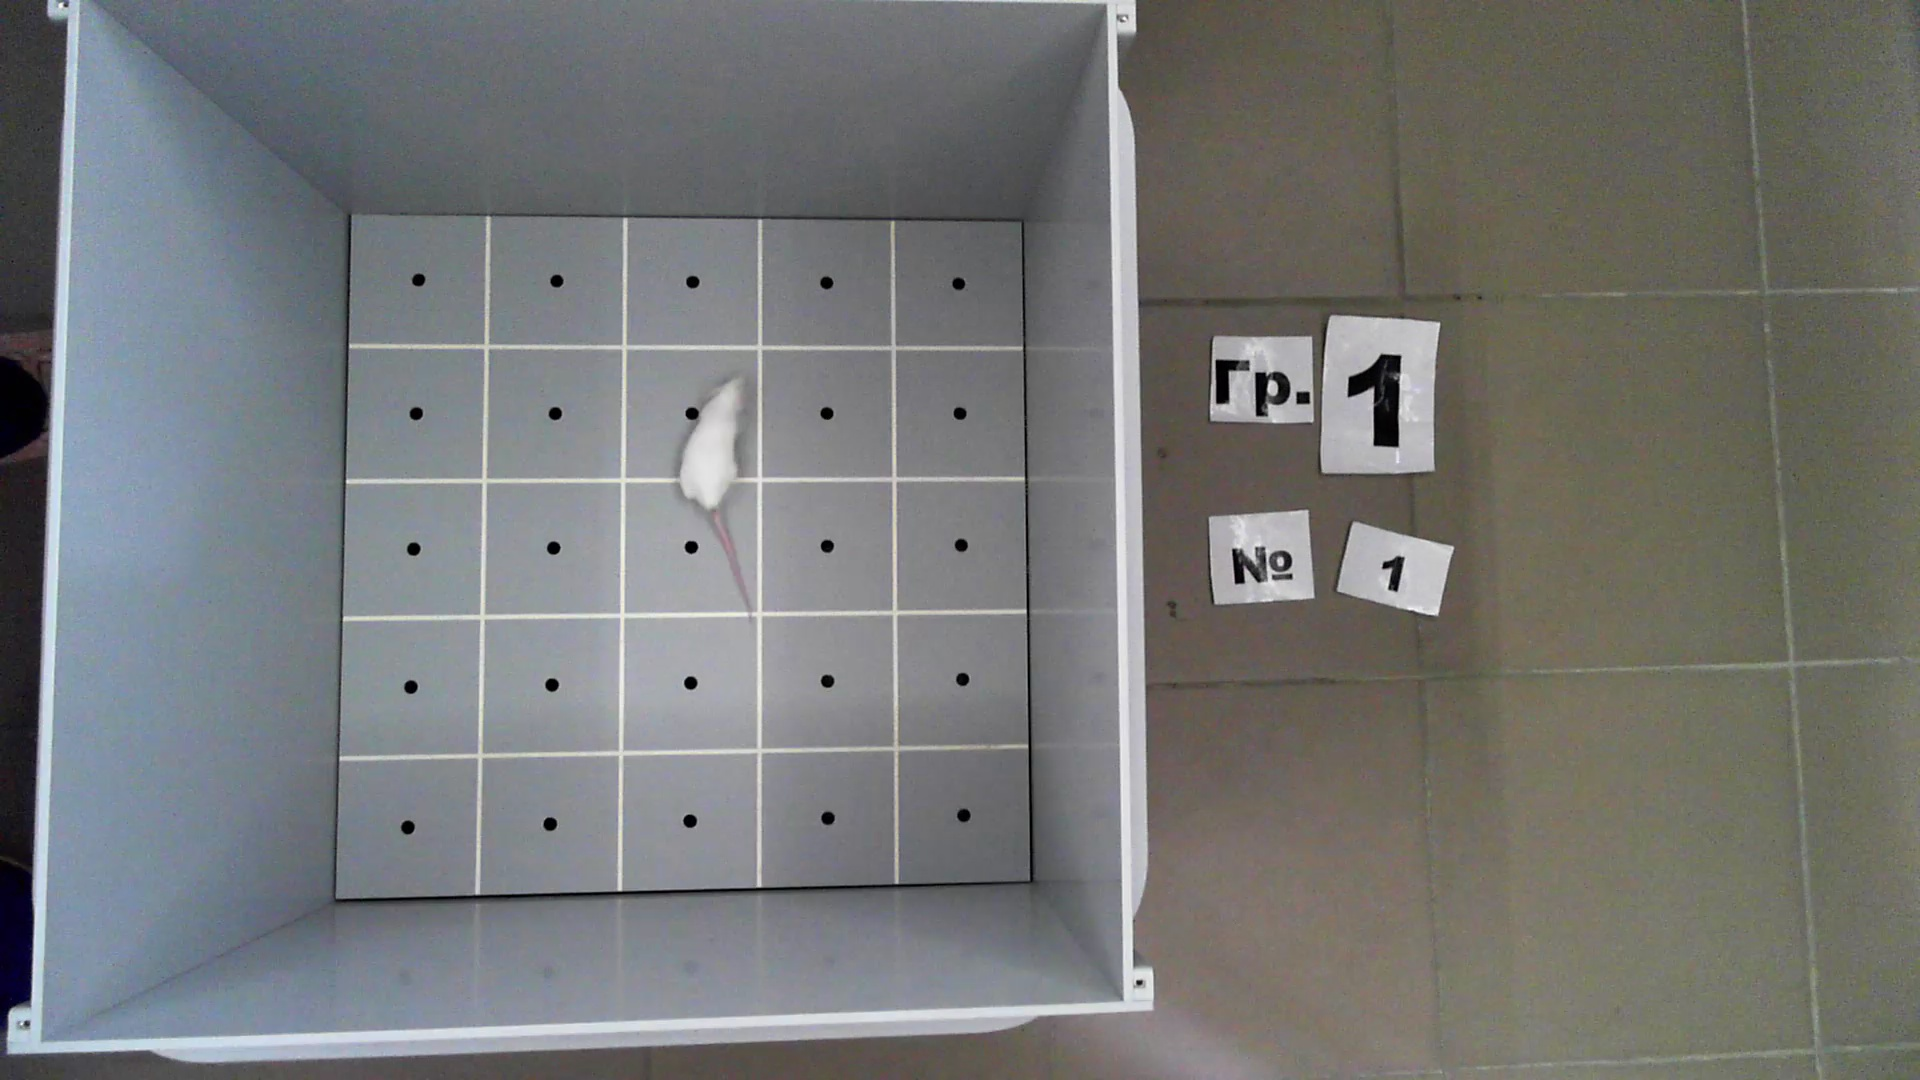mouse: (674, 369, 757, 624)
